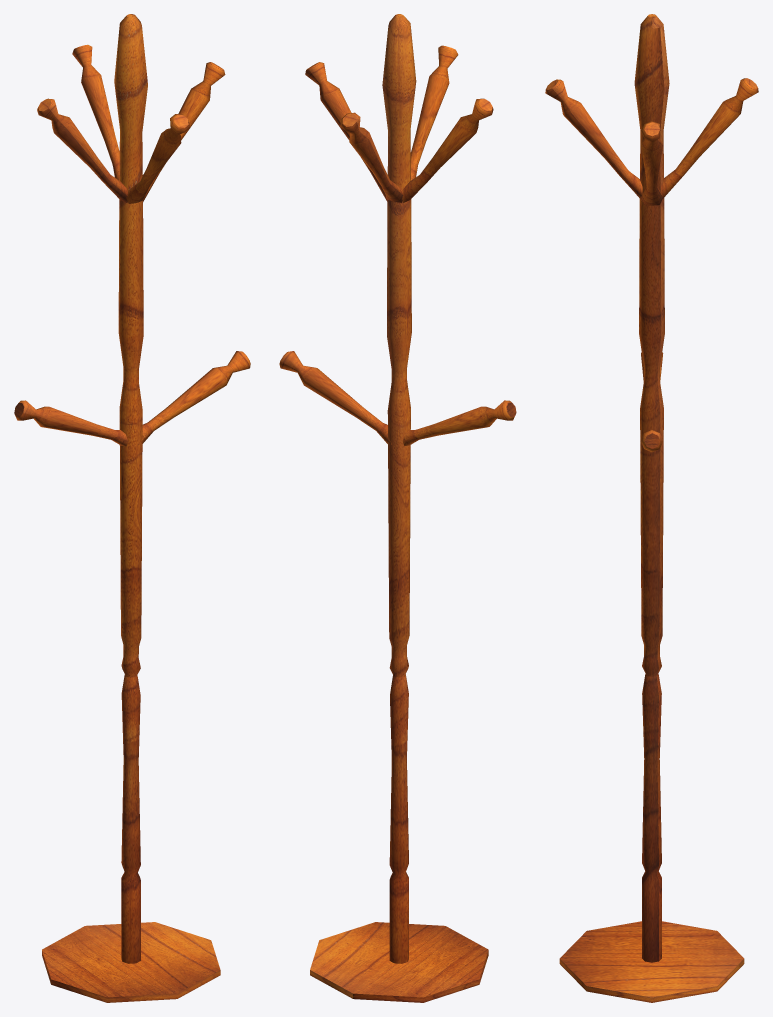
3 renders of one model, left to right at view 1: azimuth 30°, elevation 25°; view 2: azimuth 150°, elevation 25°; view 3: azimuth 270°, elevation 25°, orthographic.
Visible parts, largest first — view 1: pole; view 2: pole; view 3: pole.
Part boxes in pixels (box(x1,y1,x2,y2)): pole: box(14, 14, 250, 1002); pole: box(279, 14, 516, 1002); pole: box(545, 14, 758, 1002).
Bounding box in the file's own units: 37.83 × 147 × 30.06.
Materials: 1 (1 with a texture image).
